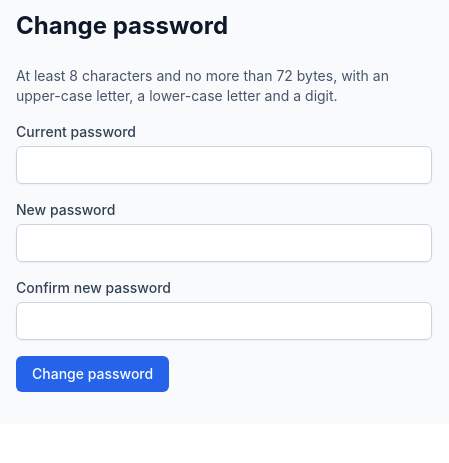
Scenario: ChangePasswordPage › refuses a confirmation that does not match, without a request
The width and height of the screenshot is (449, 463).
Type "OldPass1" into the password field with test id "current-password-input".
click(224, 165); type("OldPass1")  # box 16,146 -> 432,184
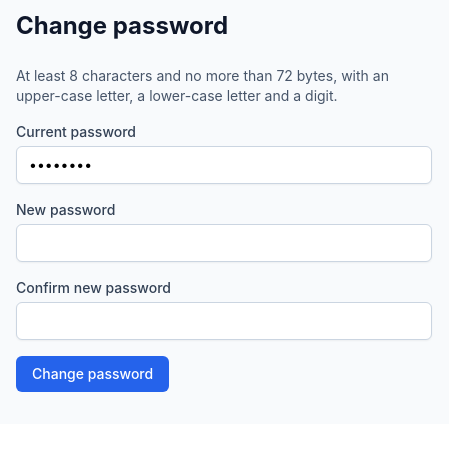
Type "NewPass12" into the password field with test id "new-password-input".
click(224, 243); type("NewPass12")  # box 16,224 -> 432,262
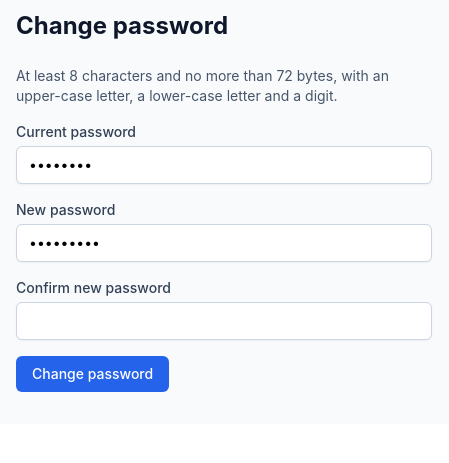
Type "NewPass13" into the password field with test id "confirm-password-input".
click(224, 321); type("NewPass13")  # box 16,302 -> 432,340
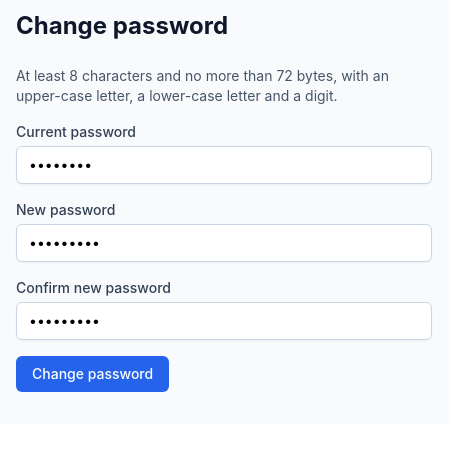
Click the button with test id "change-password-submit".
click(93, 374)  # box 16,356 -> 169,392
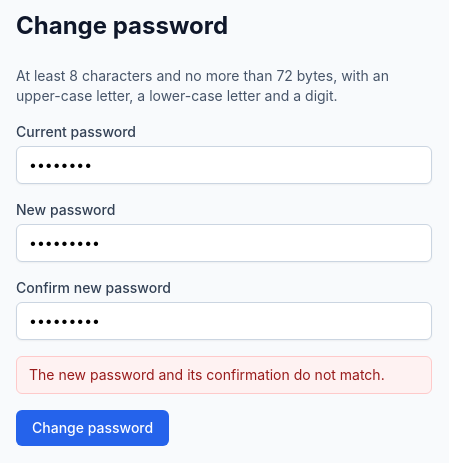
Expected: the message with test id "change-password-outcome" reads "The new password and its confirmation do not match.", 29,366 -> 385,383
